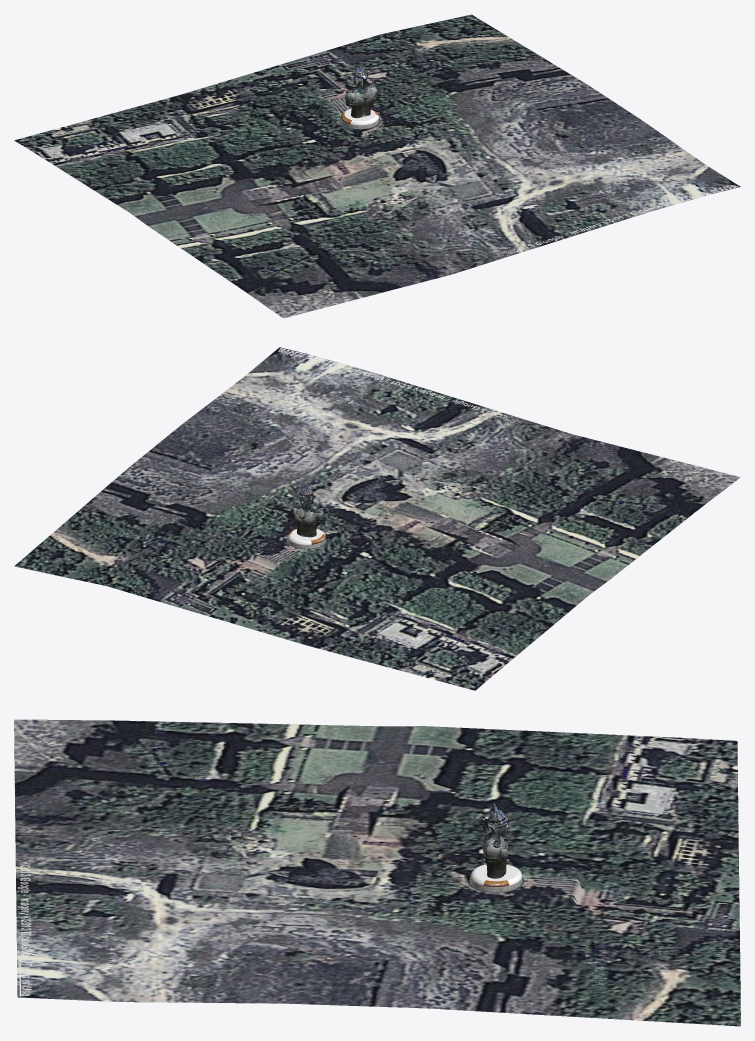
The model's file is GWK+Wishnu.fbx.
3 views of the same model, one above another, from view 1: azimuth 30°, elevation 25°; view 2: azimuth 150°, elevation 25°; view 3: azimuth 270°, elevation 25° (orthographic). The views are drawn at different scales.
Visible parts, largest first — view 1: Google_Earth_Terrain, box, Group1; view 2: Google_Earth_Terrain, box, Group1; view 3: Google_Earth_Terrain, box, Group1.
Boxes of the visible parts, x1,y1,x2,y2 form: Google_Earth_Terrain: [14, 14, 740, 318]; box: [307, 96, 385, 140]; Group1: [340, 108, 380, 129]; Google_Earth_Terrain: [14, 347, 740, 690]; box: [247, 529, 348, 576]; Group1: [286, 528, 327, 549]; Google_Earth_Terrain: [14, 719, 740, 1026]; box: [445, 866, 585, 906]; Group1: [469, 864, 523, 892].
Size of the model in its own units: 176 by 28.98 by 177.
